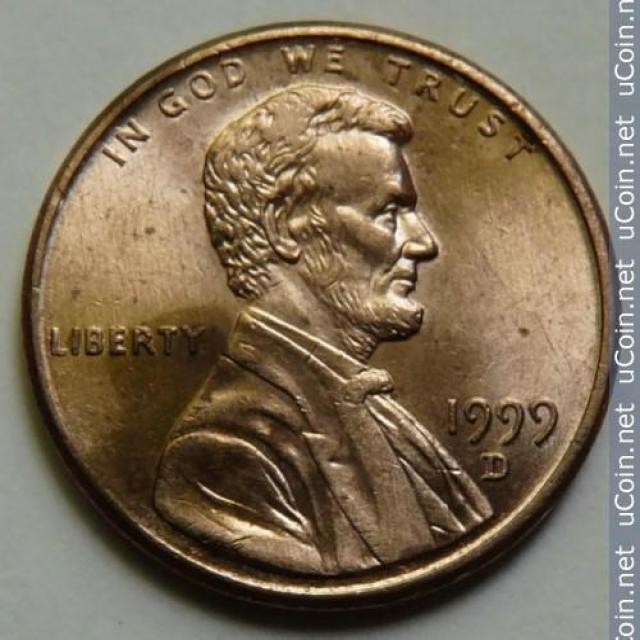Penny: (6, 8, 630, 638)
